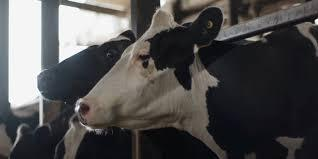cow: (77, 9, 318, 159), (37, 30, 138, 104)
